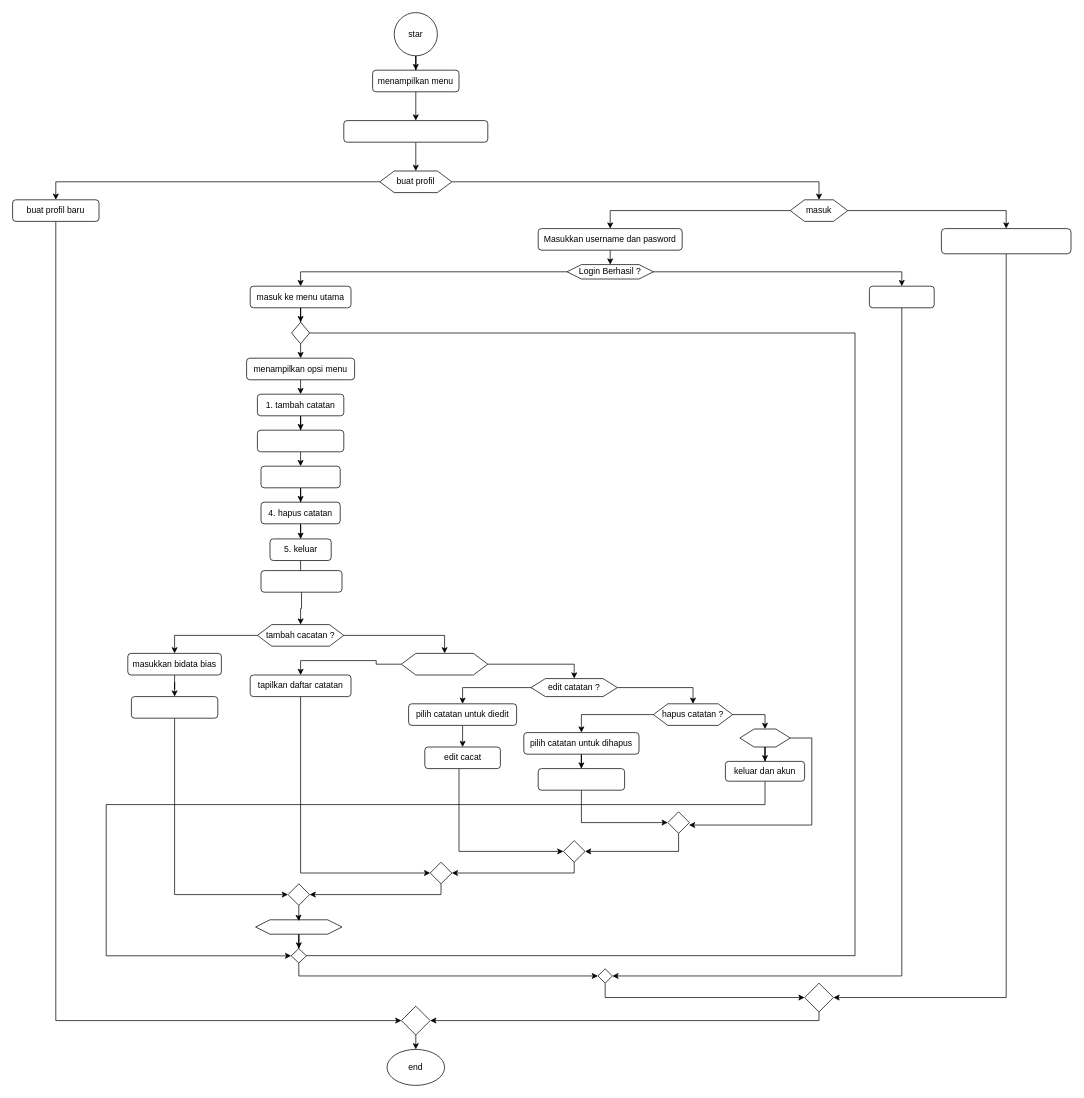
This 1084x1098 diagram has some shape labels left out. The centre of each missing label's shape, as x and y in pixels:
"2. lihat catatan" belongs at point (300, 440).
"3. edit catatan" belongs at point (300, 476).
"hapus catatan" belongs at point (581, 779).
"keluar ?" belongs at point (764, 737).
"lihat catatan" belongs at point (444, 664).
"login gagal" belongs at point (901, 296).
"pillih buat proil atau masuk" belongs at point (415, 131).
"simpan catatan" belongs at point (174, 707).
"user masih login ?" belongs at point (298, 926).
"user memilih aksi" belongs at point (301, 581).
"user tidak melakukan aksi" belongs at point (1006, 241).
